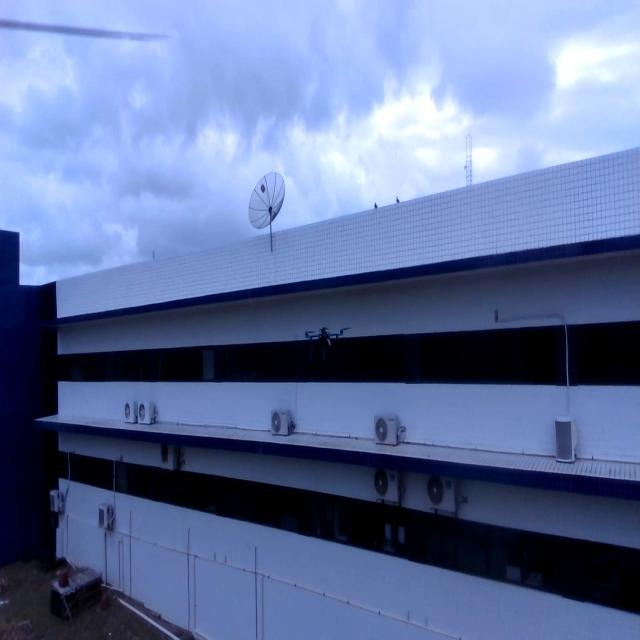-uav-: (296, 314, 356, 366)
